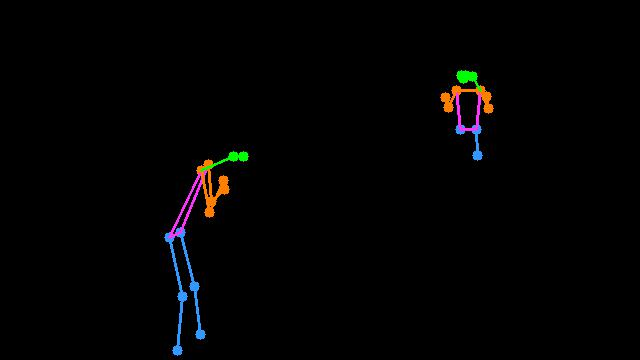normal: (149, 127, 255, 360)
